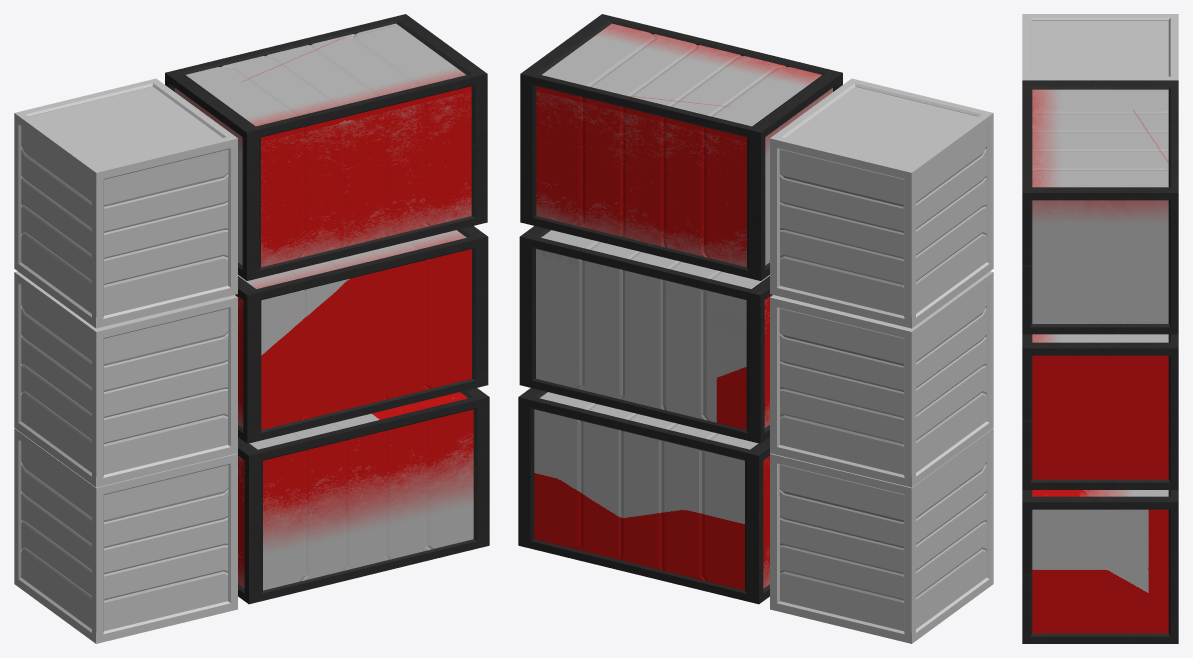
3 views of the same model, side by side, from view 1: azimuth 30°, elevation 25°; view 2: azimuth 150°, elevation 25°; view 3: azimuth 270°, elevation 25° (orthographic). The views are drawn at different scales.
Visible parts, largest first — view 1: Cube.006, Cube.010, Cube.004, Cube, Cube.002, Cube.008, Cube.007, Cube.011, Cube.005, Cube.001, Cube.009, Cube.003; view 2: Cube.006, Cube.010, Cube.004, Cube, Cube.002, Cube.008, Cube.007, Cube.011, Cube.005, Cube.001, Cube.009, Cube.003; view 3: Cube.006, Cube.004, Cube, Cube.007, Cube.010, Cube.005, Cube.001, Cube.011.
Boxes of the visible parts, box(x1,y1,x2,y2) form: Cube.006: box(175, 23, 471, 267); Cube.010: box(21, 86, 228, 315); Cube.004: box(235, 230, 471, 429); Cube: box(238, 392, 473, 590); Cube.002: box(21, 441, 228, 631); Cube.008: box(21, 285, 228, 474); Cube.007: box(165, 14, 487, 280); Cube.011: box(14, 78, 237, 328); Cube.005: box(236, 226, 488, 443); Cube.001: box(238, 388, 489, 604); Cube.009: box(14, 271, 237, 487); Cube.003: box(14, 428, 237, 643); Cube.006: box(536, 23, 832, 267); Cube.010: box(779, 86, 986, 315); Cube.004: box(536, 230, 772, 429); Cube: box(534, 392, 769, 590); Cube.002: box(779, 441, 986, 631); Cube.008: box(779, 285, 986, 474); Cube.007: box(520, 14, 842, 280); Cube.011: box(770, 78, 993, 328); Cube.005: box(519, 226, 771, 443); Cube.001: box(518, 388, 769, 604); Cube.009: box(770, 271, 993, 487); Cube.003: box(770, 428, 993, 643); Cube.006: box(1032, 89, 1168, 323); Cube.004: box(1032, 334, 1168, 479); Cube: box(1032, 490, 1168, 633); Cube.007: box(1022, 80, 1178, 334); Cube.010: box(1032, 20, 1168, 76); Cube.005: box(1022, 334, 1178, 489); Cube.001: box(1022, 490, 1178, 643); Cube.011: box(1022, 14, 1178, 80).
Size of the model in its own units: 555 by 639 by 200.
